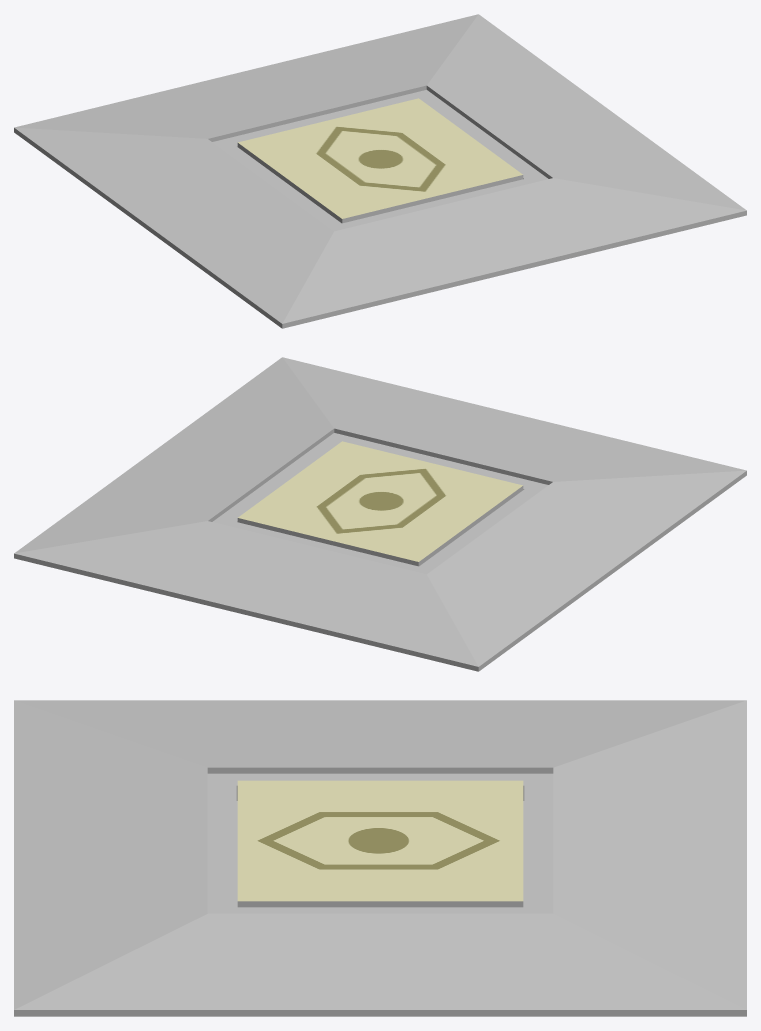
The model's file is DoorMecanism2.fbx.
3 renders of one model, top to bottom at view 1: azimuth 30°, elevation 25°; view 2: azimuth 150°, elevation 25°; view 3: azimuth 270°, elevation 25°, orthographic. The views are drawn at different scales.
Visible parts, largest first — view 1: Base, PressurePlate; view 2: Base, PressurePlate; view 3: Base, PressurePlate.
Part boxes in pixels (x1,y1,x2,y2): Base: (14, 14, 746, 328); PressurePlate: (237, 98, 523, 223); Base: (14, 357, 746, 671); PressurePlate: (237, 441, 523, 566); Base: (14, 700, 746, 1016); PressurePlate: (237, 780, 523, 907).
Size of the model in its own units: 902 by 42.95 by 902.
